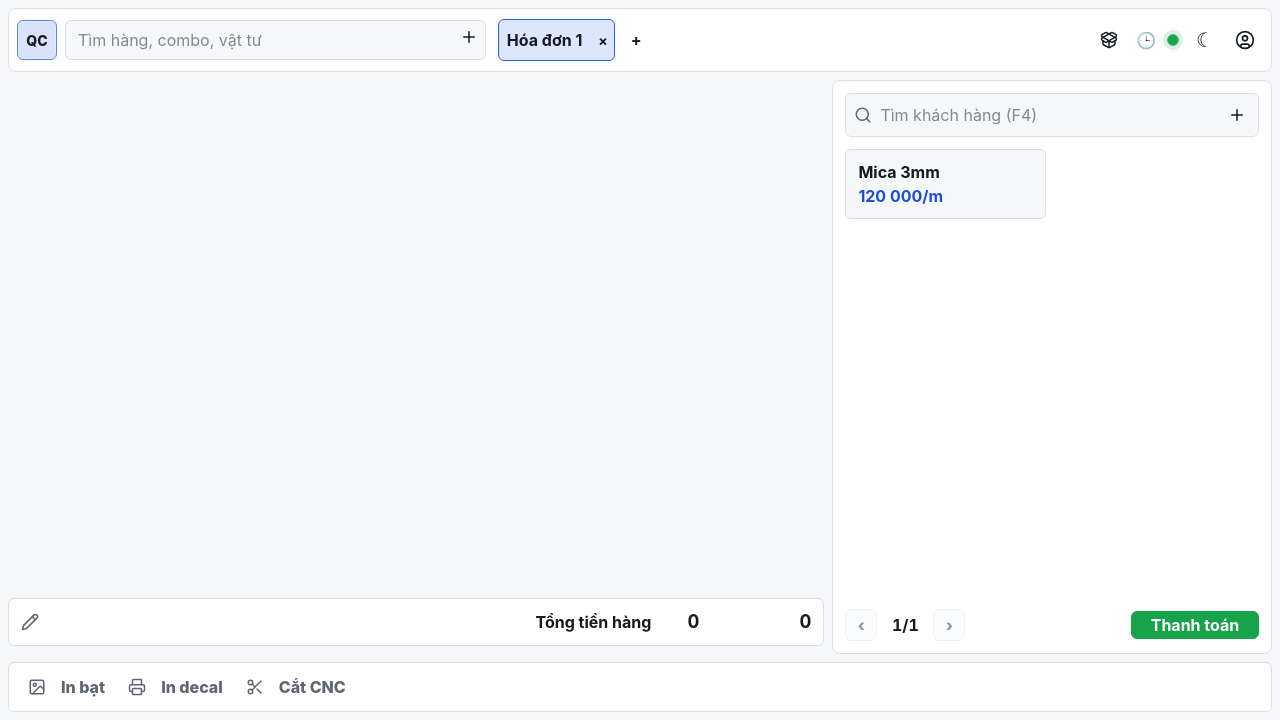
uses the K01 F3 product search as an enabled product picker
This screenshot has width=1280, height=720.
Expected: the field named "Tìm hàng (F3)" is enabled, [65,20,486,60]
Press F3
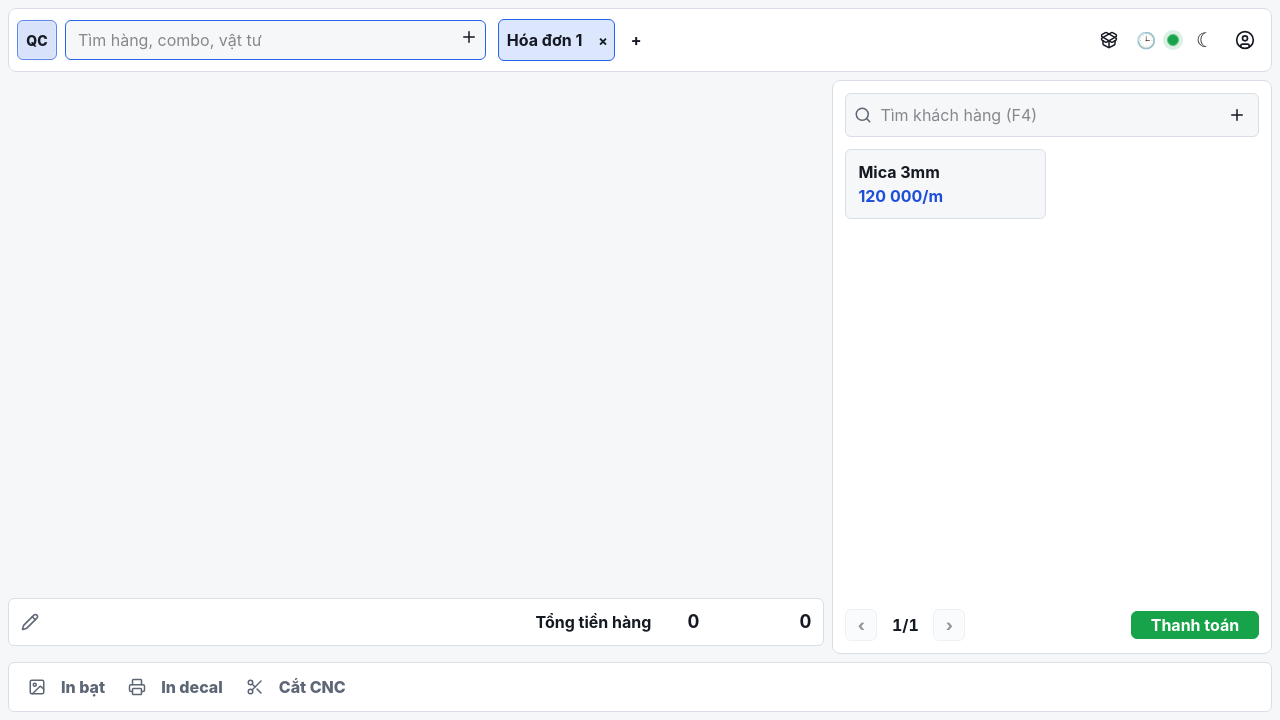
Type "mica" into the field named "Tìm hàng (F3)" at (275, 40), box [65,20,486,60]
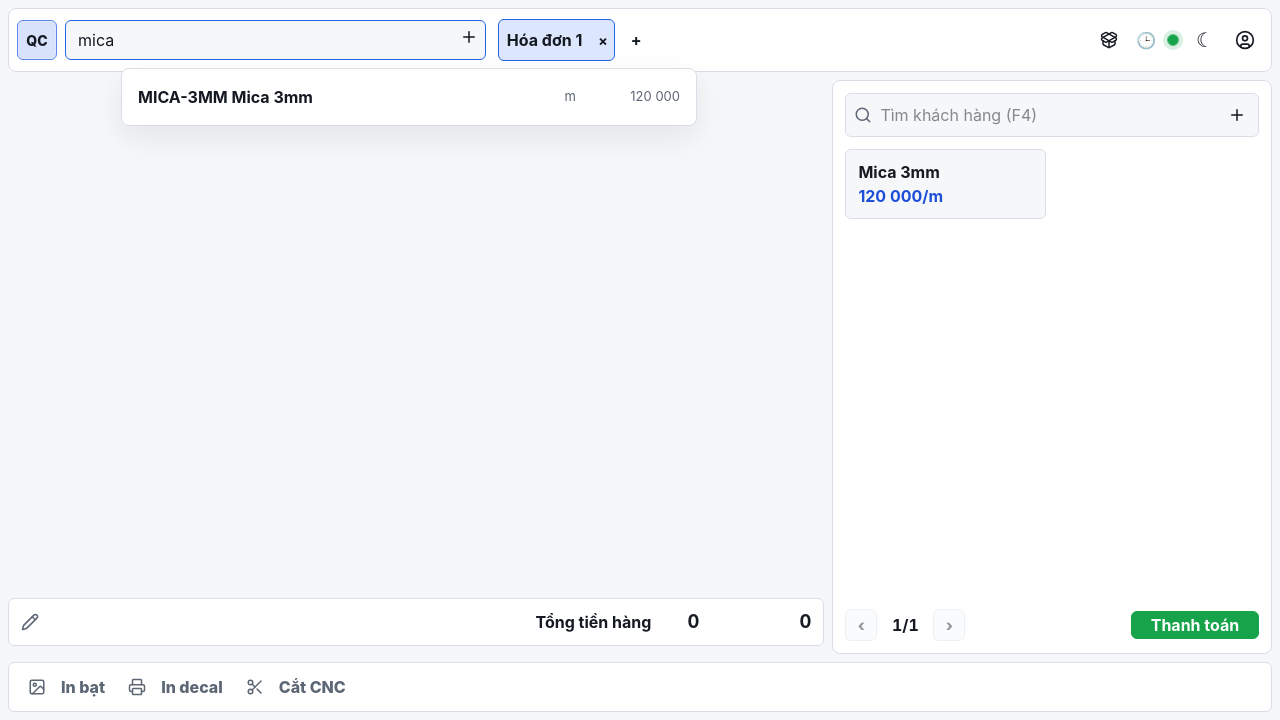
Click the option "MICA-3MM Mica 3mm m 120 000" at (183, 97), box [130,77,688,117]
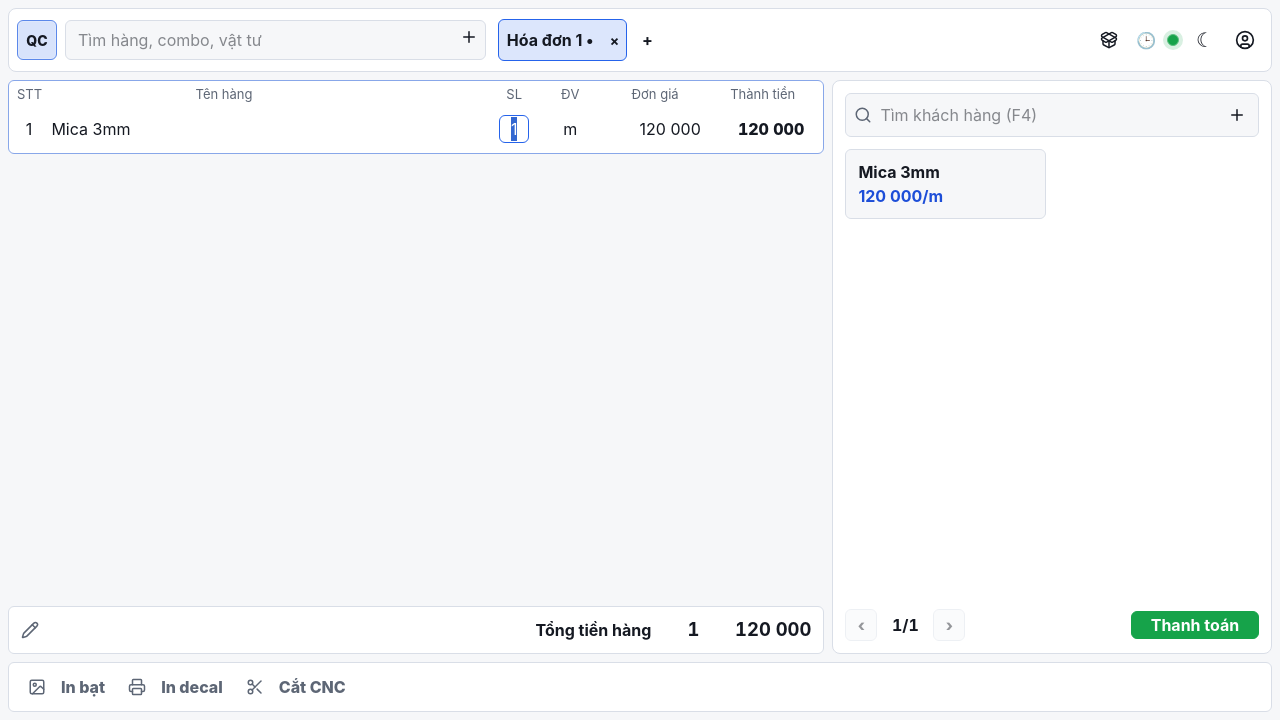
Expected: the text "Mica 3mm" below "STT" is shown, [51,118,130,138]
Expected: the text "120 000" below "SL" is shown, [738,118,804,138]
